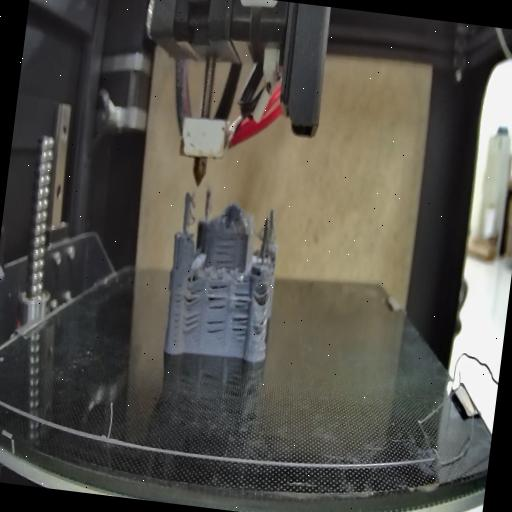cracks: (168, 284, 184, 346), (214, 235, 240, 270), (208, 282, 231, 312), (182, 284, 206, 308), (230, 314, 250, 340), (205, 314, 226, 338), (233, 286, 253, 310), (183, 314, 203, 332), (253, 314, 267, 337), (256, 284, 270, 306)
